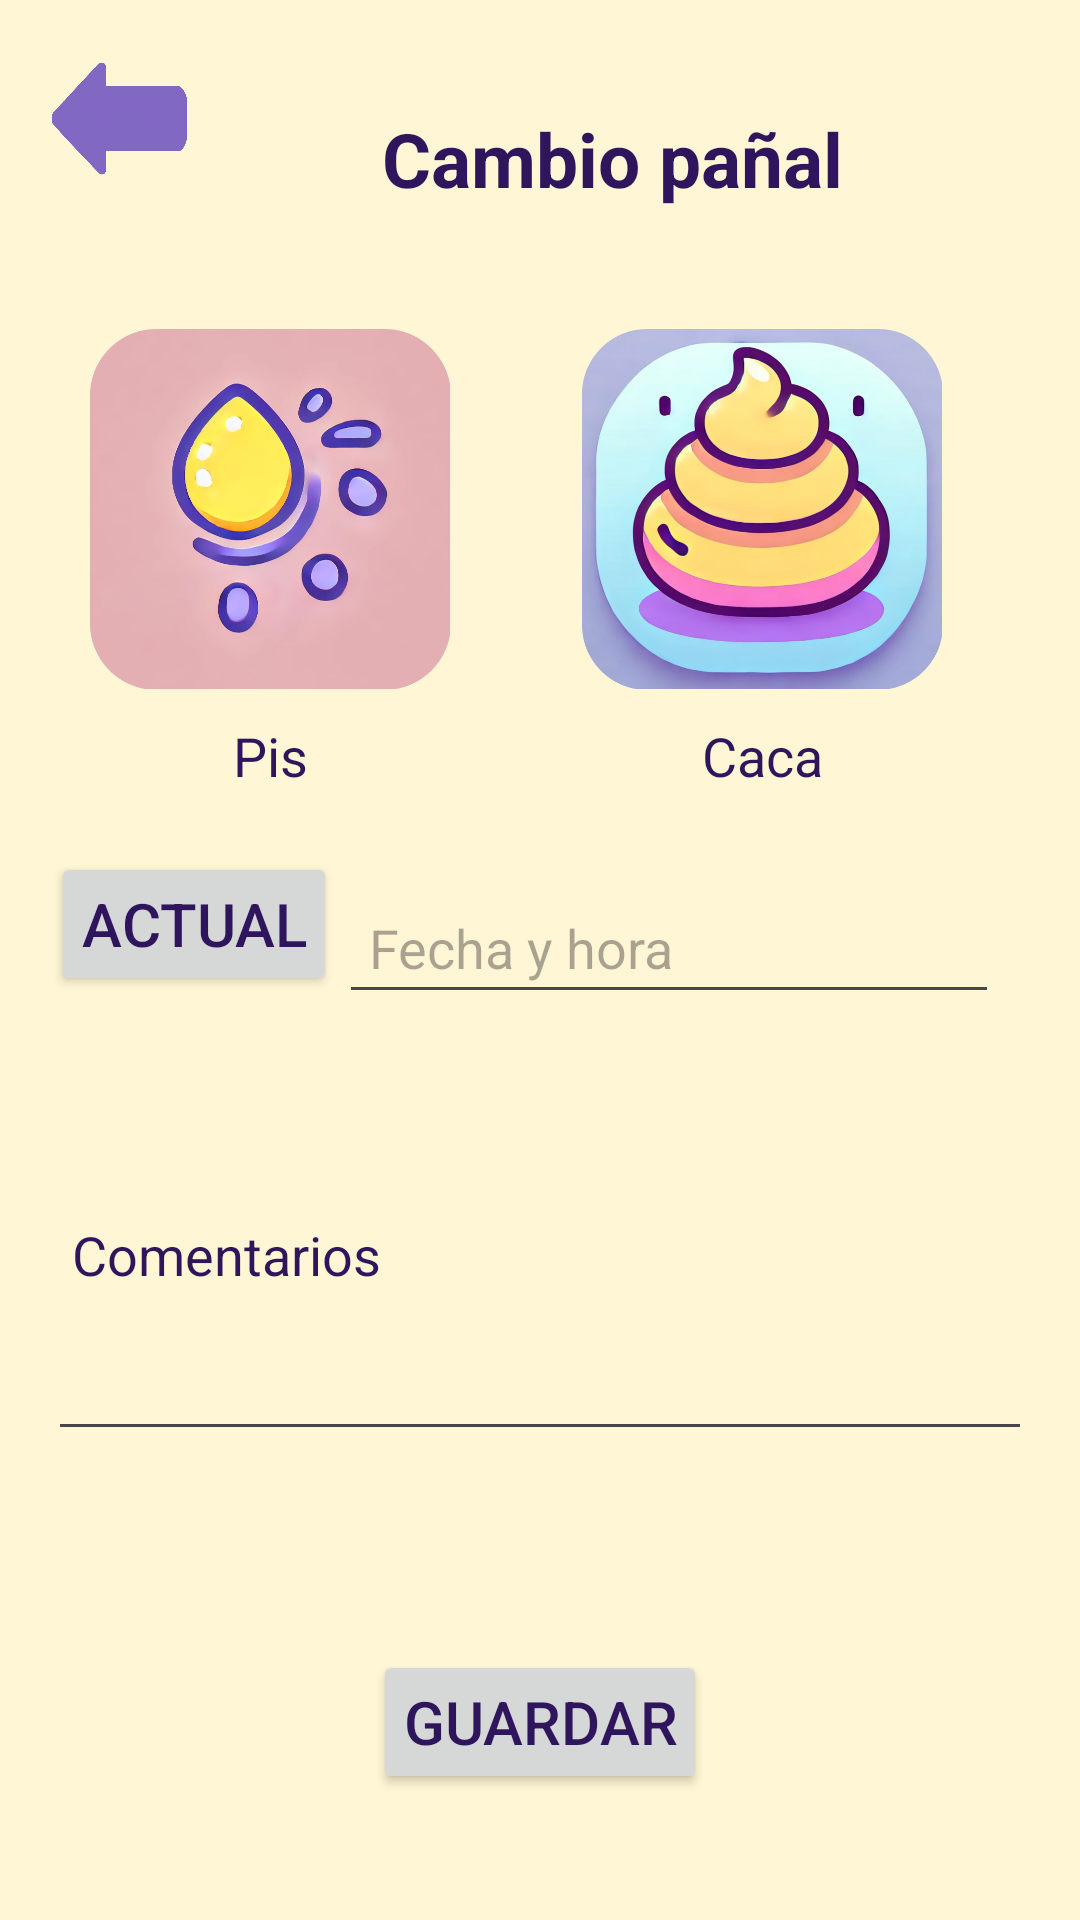

Icons on this 1080 × 1920 Android screen, each with the point to tap as (x,y):
atras: (119,119)
